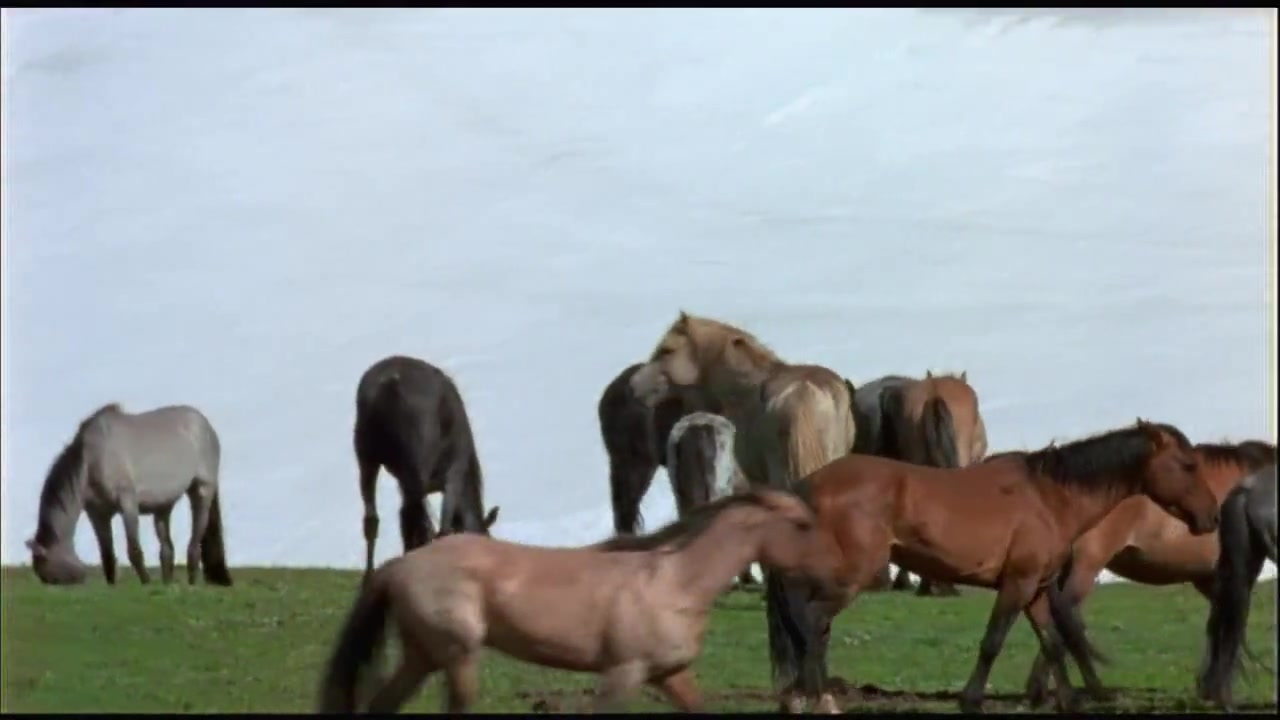horse: (25, 403, 234, 588)
